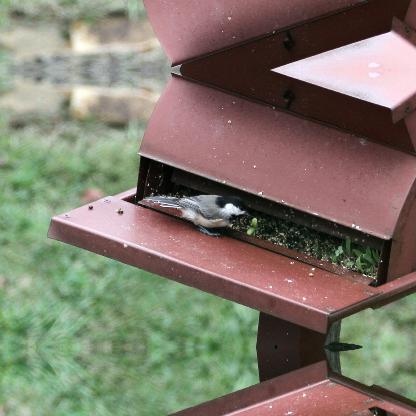Bird: (137, 193, 255, 238)
